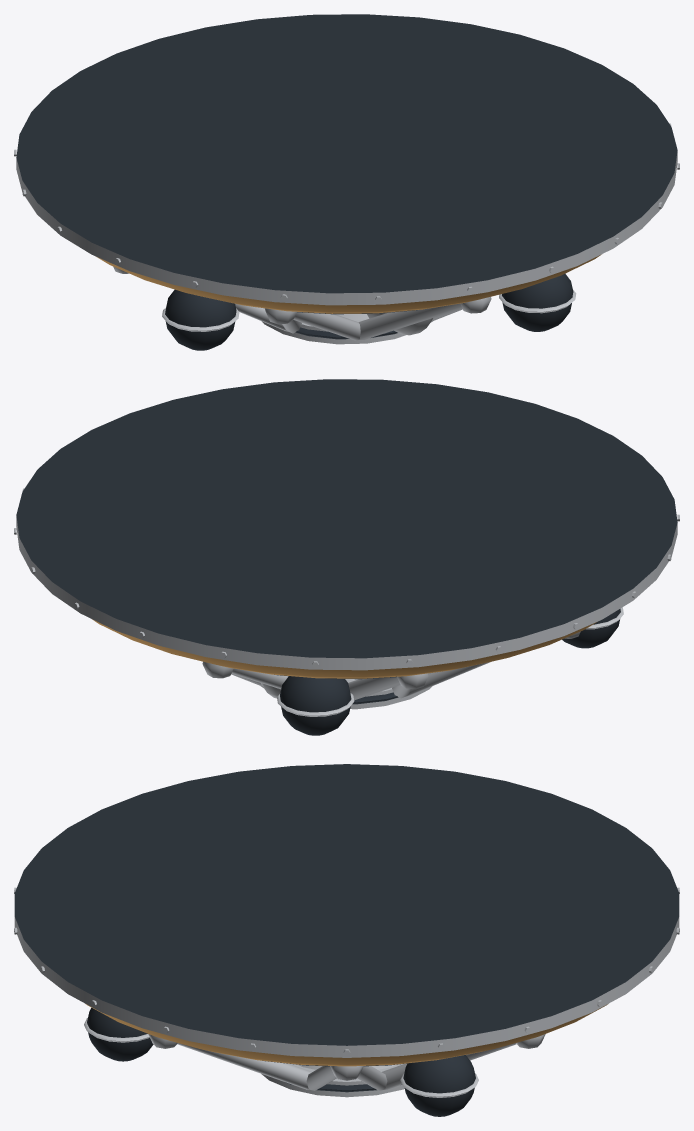
File: mount_s2_1_d37.glb
The picture shows the model from 3 angles, top to bottom: view 1: azimuth 30°, elevation 25°; view 2: azimuth 150°, elevation 25°; view 3: azimuth 270°, elevation 25°; orthographic projection.
Parts seen in each view (by area): view 1: mount_s2_1_d37_mesh; view 2: mount_s2_1_d37_mesh; view 3: mount_s2_1_d37_mesh.
Part boxes in pixels (bbox=[...]): mount_s2_1_d37_mesh: bbox=[14, 14, 679, 350]; mount_s2_1_d37_mesh: bbox=[14, 379, 679, 735]; mount_s2_1_d37_mesh: bbox=[14, 764, 679, 1116].
Bounding box in the file's own units: 3.21 × 0.8 × 3.18.
